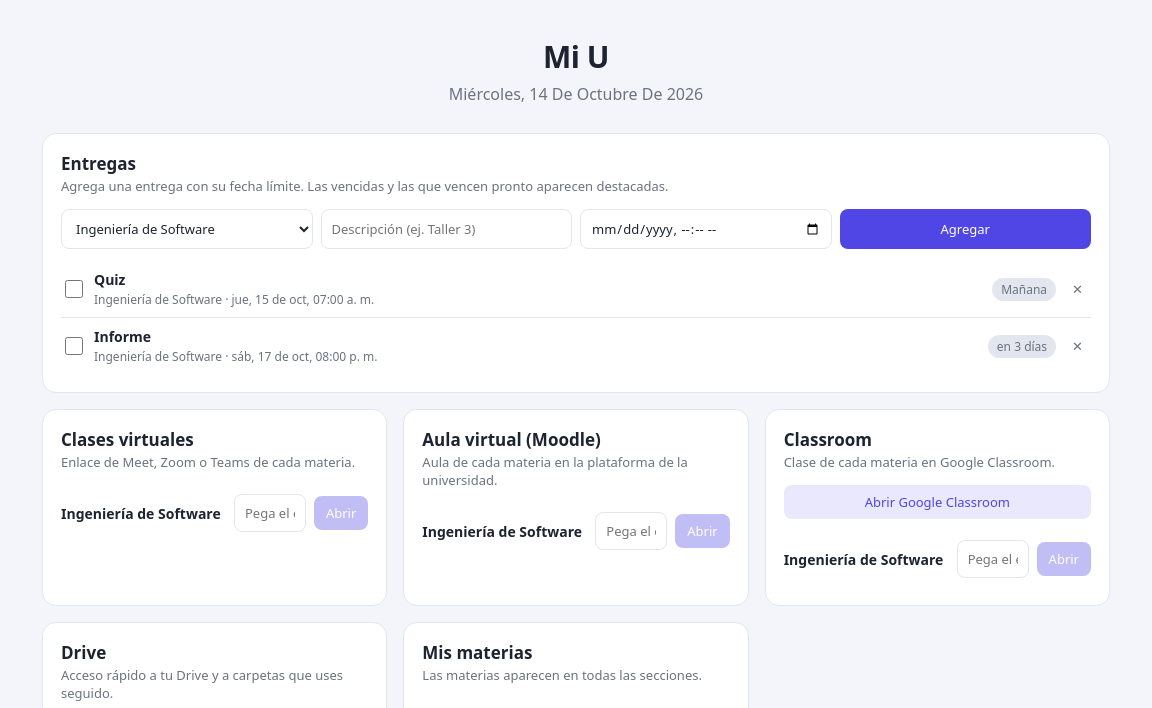
Scenario: Entregas › marcarla como hecha la deja "Entregada" y la pasa al final
Expected: the list item that starts with "Quiz" is shown, [94,270,126,289]
Expected: the list item that starts with "Quiz" shows "Mañana", [1001,280,1047,298]
Click the checkbox named "Quiz".
click(74, 289)  # box [65,280,83,298]
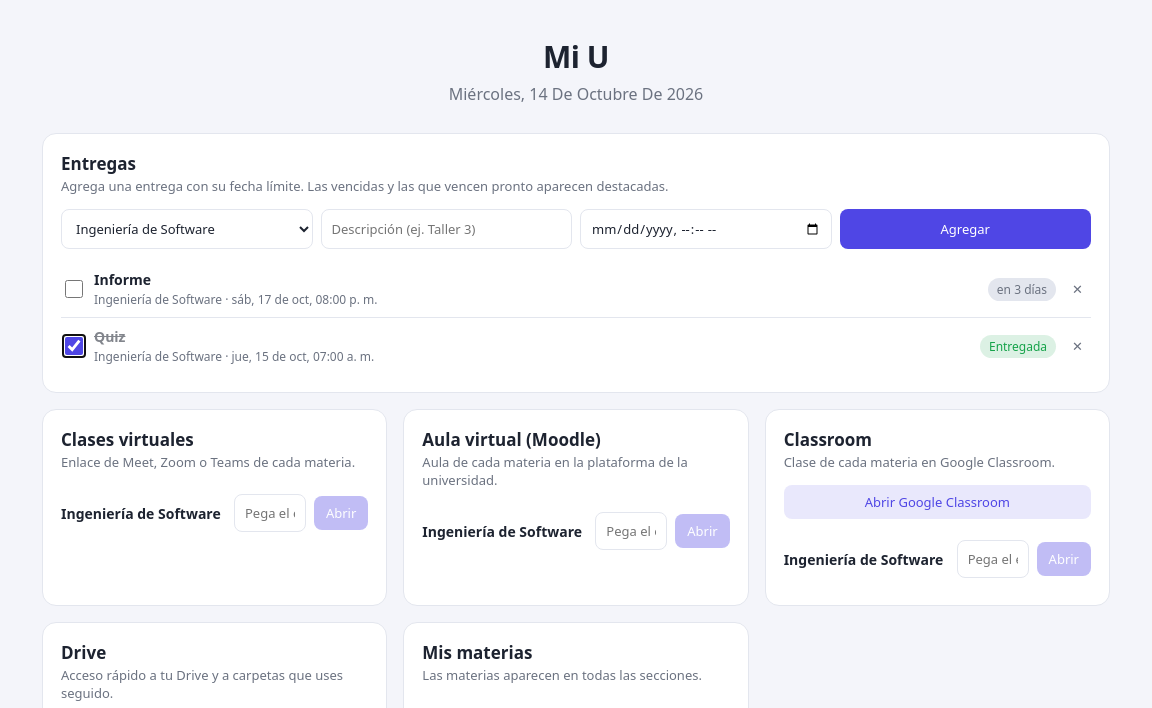
Expected: the list item that starts with "Informe" is shown, [94,270,151,289]
Expected: the checkbox named "Quiz" is checked, [65,337,83,355]
Expected: the list item that starts with "Quiz" shows "Entregada", [989,338,1047,354]
